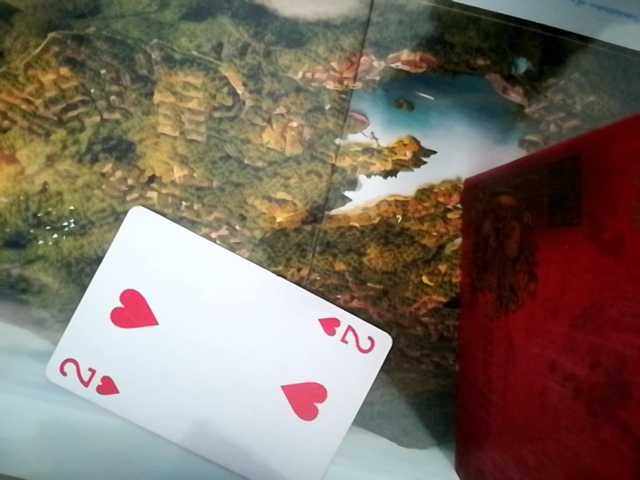hx 2: (38, 204, 396, 480)
